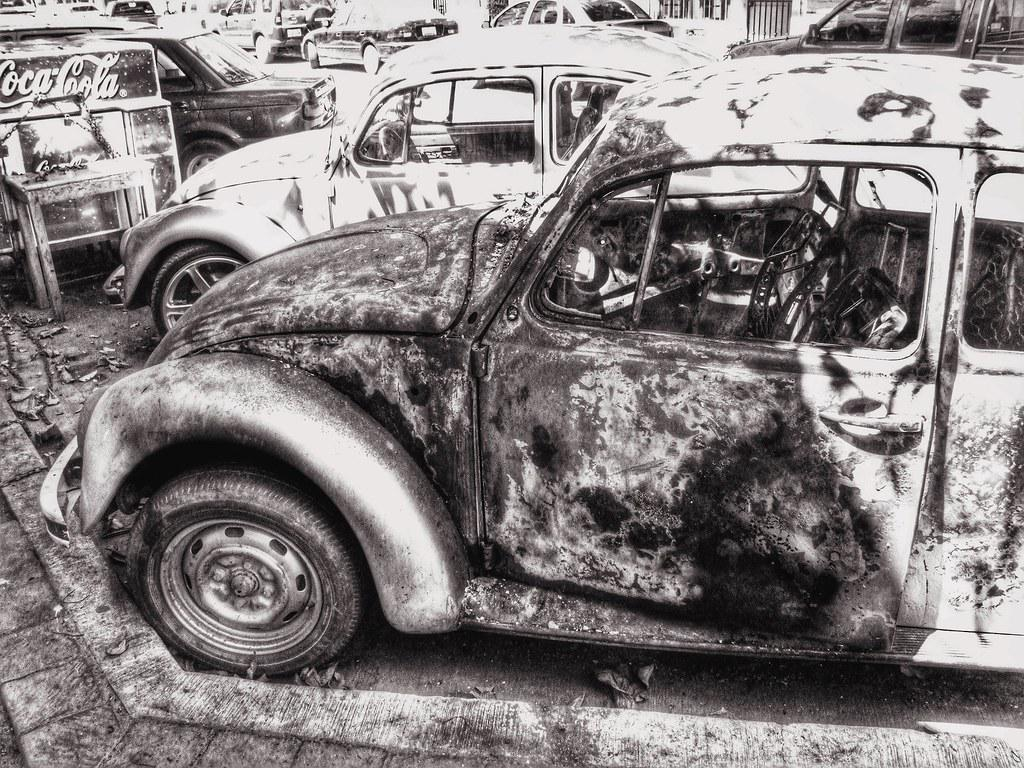bonnet-dent: (179, 176, 533, 344)
doorouter-dent: (469, 188, 939, 624), (945, 170, 1023, 639)
fender-dent: (71, 352, 446, 616)
